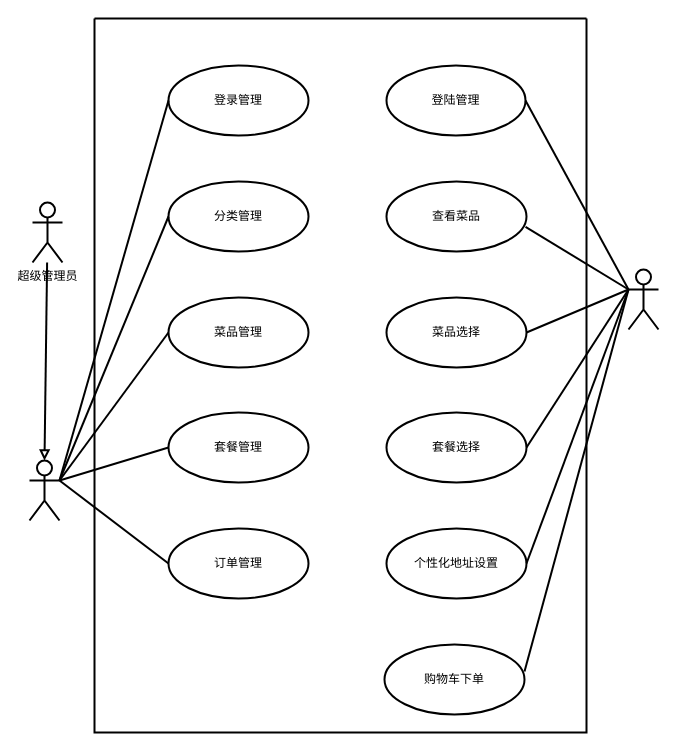
This 676x750 diagram has some shape labels left out. Here are the shapes that lost their labels. From the top down, the box of each, then its label:
(627, 268, 659, 330): 用户
(28, 459, 60, 521): 管理员
